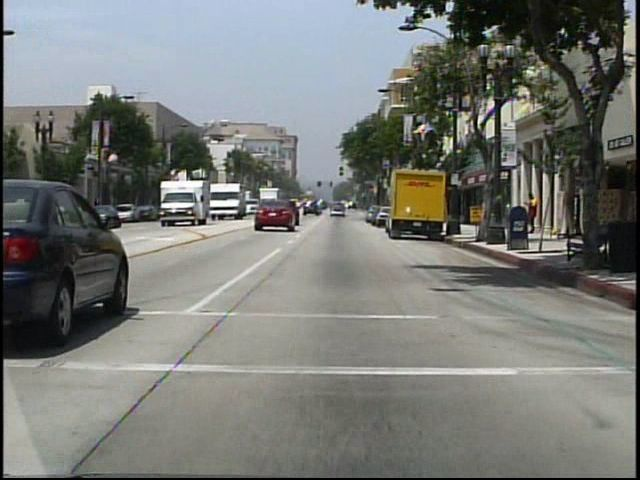person: (522, 192, 538, 236)
